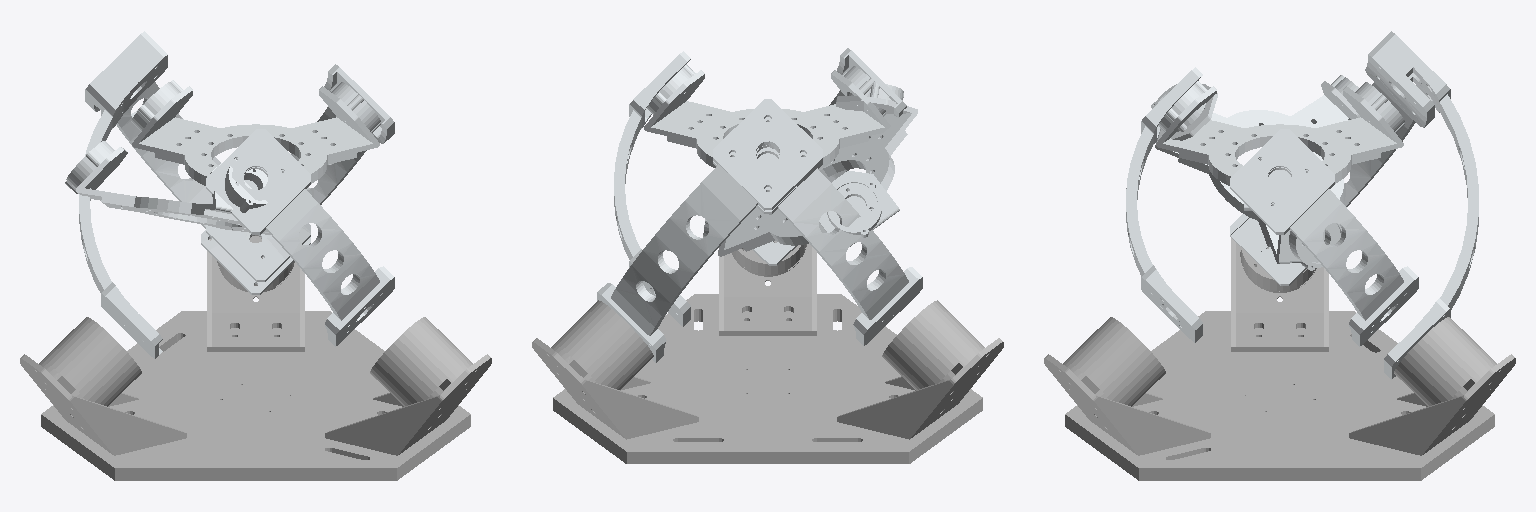
URDF robot description (Spherical_Parallel4.0):
<?xml version="1.0" encoding="utf-8"?>
<!-- This URDF was automatically created by SolidWorks to URDF Exporter! Originally created by Stephen Brawner (brawner@gmail.com) 
     Commit Version: 1.6.0-4-g7f85cfe  Build Version: 1.6.7995.38578
     For more information, please see http://wiki.ros.org/sw_urdf_exporter -->
<robot
  name="Spherical_Parallel4.0">
  <link
    name="S1_base_link">
    <inertial>
      <origin
        xyz="4.83843121954725E-06 -8.38041007873146E-06 0.00921106157110024"
        rpy="0 0 0" />
      <mass
        value="0.383954508133489" />
      <inertia
        ixx="0.000279103390586857"
        ixy="-3.02891552499975E-06"
        ixz="1.56141543529582E-17"
        iyy="0.000282600880973714"
        iyz="1.42975321290463E-16"
        izz="0.000538960992417047" />
    </inertial>
    <visual>
      <origin
        xyz="0 0 0"
        rpy="0 0 0" />
      <geometry>
        <mesh
          filename="package://Spherical_Parallel4.0/meshes/S1_base_link.STL" />
      </geometry>
      <material
        name="">
        <color
          rgba="0.752941176470588 0.752941176470588 0.752941176470588 1" />
      </material>
    </visual>
    <collision>
      <origin
        xyz="0 0 0"
        rpy="0 0 0" />
      <geometry>
        <mesh
          filename="package://Spherical_Parallel4.0/meshes/S1_base_link.STL" />
      </geometry>
    </collision>
  </link>
  <link
    name="S1_leg1_proximal">
    <inertial>
      <origin
        xyz="0.039427 0.015615 0.048164"
        rpy="0 0 0" />
      <mass
        value="0.072371" />
      <inertia
        ixx="5.3484E-05"
        ixy="1.5673E-05"
        ixz="-2.6488E-05"
        iyy="7.7521E-05"
        iyz="-1.0469E-08"
        izz="6.804E-05" />
    </inertial>
    <visual>
      <origin
        xyz="0 0 0"
        rpy="0 0 0" />
      <geometry>
        <mesh
          filename="package://Spherical_Parallel4.0/meshes/S1_leg1_proximal.STL" />
      </geometry>
      <material
        name="">
        <color
          rgba="0.89804 0.91765 0.92941 1" />
      </material>
    </visual>
    <collision>
      <origin
        xyz="0 0 0"
        rpy="0 0 0" />
      <geometry>
        <mesh
          filename="package://Spherical_Parallel4.0/meshes/S1_leg1_proximal.STL" />
      </geometry>
    </collision>
  </link>
  <joint
    name="S1_base_proximal_Joint1"
    type="revolute">
    <origin
      xyz="-0.055307 -1.8224E-05 0.037207"
      rpy="-0.7854 -0.61548 -2.0944" />
    <parent
      link="S1_base_link" />
    <child
      link="S1_leg1_proximal" />
    <axis
      xyz="0 0 -1" />
    <limit
      lower="0"
      upper="0"
      effort="0"
      velocity="0" />
  </joint>
  <link
    name="S1_leg1_distal">
    <inertial>
      <origin
        xyz="0.0276162169494415 -2.2103393455819E-09 0.016604279242538"
        rpy="0 0 0" />
      <mass
        value="0.0249434660620519" />
      <inertia
        ixx="1.23287454032943E-05"
        ixy="-3.16358153214323E-13"
        ixz="-1.02513914563365E-05"
        iyy="2.31995059108402E-05"
        iyz="-1.03787602404874E-12"
        izz="1.41903412871279E-05" />
    </inertial>
    <visual>
      <origin
        xyz="0 0 0"
        rpy="0 0 0" />
      <geometry>
        <mesh
          filename="package://Spherical_Parallel4.0/meshes/S1_leg1_distal.STL" />
      </geometry>
      <material
        name="">
        <color
          rgba="0.898039215686275 0.917647058823529 0.929411764705882 1" />
      </material>
    </visual>
    <collision>
      <origin
        xyz="0 0 0"
        rpy="0 0 0" />
      <geometry>
        <mesh
          filename="package://Spherical_Parallel4.0/meshes/S1_leg1_distal.STL" />
      </geometry>
    </collision>
  </link>
  <joint
    name="S1_intermediate_distal_Joint1"
    type="revolute">
    <origin
      xyz="0 0.0515000000000001 0.06775"
      rpy="1.5707963267949 0 0" />
    <parent
      link="S1_leg1_proximal" />
    <child
      link="S1_leg1_distal" />
    <axis
      xyz="0 0 1" />
    <limit
      lower="0"
      upper="0"
      effort="0"
      velocity="0" />
  </joint>
  <link
    name="S1_leg1_platform">
    <inertial>
      <origin
        xyz="-0.01307727722899 0.01307727722899 -0.0424227227710103"
        rpy="0 0 0" />
      <mass
        value="0.0449010465380491" />
      <inertia
        ixx="8.16628762450826E-06"
        ixy="-1.65084933290386E-06"
        ixz="-1.65084933290384E-06"
        iyy="8.16628762450828E-06"
        iyz="1.65084933290385E-06"
        izz="8.16628762450823E-06" />
    </inertial>
    <visual>
      <origin
        xyz="0 0 0"
        rpy="0 0 0" />
      <geometry>
        <mesh
          filename="package://Spherical_Parallel4.0/meshes/S1_leg1_platform.STL" />
      </geometry>
      <material
        name="">
        <color
          rgba="0.898039215686275 0.917647058823529 0.929411764705882 1" />
      </material>
    </visual>
    <collision>
      <origin
        xyz="0 0 0"
        rpy="0 0 0" />
      <geometry>
        <mesh
          filename="package://Spherical_Parallel4.0/meshes/S1_leg1_platform.STL" />
      </geometry>
    </collision>
  </link>
  <joint
    name="S1_distal_platform_Joint1"
    type="revolute">
    <origin
      xyz="0.0555 0 0.0515000000000002"
      rpy="3.14159265358979 1.57079631189374 -2.5042761448487" />
    <parent
      link="S1_leg1_distal" />
    <child
      link="S1_leg1_platform" />
    <axis
      xyz="0 0 -1" />
    <limit
      lower="0"
      upper="0"
      effort="0"
      velocity="0" />
  </joint>
  <link
    name="S1_leg2_proximal">
    <inertial>
      <origin
        xyz="0.039427 0.015615 0.048164"
        rpy="0 0 0" />
      <mass
        value="0.072371" />
      <inertia
        ixx="5.3484E-05"
        ixy="1.5673E-05"
        ixz="-2.6488E-05"
        iyy="7.7521E-05"
        iyz="-1.046E-08"
        izz="6.804E-05" />
    </inertial>
    <visual>
      <origin
        xyz="0 0 0"
        rpy="0 0 0" />
      <geometry>
        <mesh
          filename="package://Spherical_Parallel4.0/meshes/S1_leg2_proximal.STL" />
      </geometry>
      <material
        name="">
        <color
          rgba="0.89804 0.91765 0.92941 1" />
      </material>
    </visual>
    <collision>
      <origin
        xyz="0 0 0"
        rpy="0 0 0" />
      <geometry>
        <mesh
          filename="package://Spherical_Parallel4.0/meshes/S1_leg2_proximal.STL" />
      </geometry>
    </collision>
  </link>
  <joint
    name="S1_base_proximal_Joint2"
    type="revolute">
    <origin
      xyz="0.027669 -0.047925 0.037207"
      rpy="-0.7854 -0.61548 0" />
    <parent
      link="S1_base_link" />
    <child
      link="S1_leg2_proximal" />
    <axis
      xyz="0 0 -1" />
    <limit
      lower="0"
      upper="0"
      effort="0"
      velocity="0" />
  </joint>
  <link
    name="S1_leg2_distal">
    <inertial>
      <origin
        xyz="0.0276162724495207 -2.56363466566434E-09 0.0166042770917791"
        rpy="0 0 0" />
      <mass
        value="0.0249434008867253" />
      <inertia
        ixx="1.23287424080632E-05"
        ixy="1.00356953107288E-12"
        ixz="-1.02513872579272E-05"
        iyy="2.31995048527672E-05"
        iyz="-1.19413554633169E-12"
        izz="1.4190346123321E-05" />
    </inertial>
    <visual>
      <origin
        xyz="0 0 0"
        rpy="0 0 0" />
      <geometry>
        <mesh
          filename="package://Spherical_Parallel4.0/meshes/S1_leg2_distal.STL" />
      </geometry>
      <material
        name="">
        <color
          rgba="0.898039215686275 0.917647058823529 0.929411764705882 1" />
      </material>
    </visual>
    <collision>
      <origin
        xyz="0 0 0"
        rpy="0 0 0" />
      <geometry>
        <mesh
          filename="package://Spherical_Parallel4.0/meshes/S1_leg2_distal.STL" />
      </geometry>
    </collision>
  </link>
  <joint
    name="S1_intermediate_distal_Joint2"
    type="revolute">
    <origin
      xyz="0 0.0515 0.06775"
      rpy="1.5707963267949 0 0" />
    <parent
      link="S1_leg2_proximal" />
    <child
      link="S1_leg2_distal" />
    <axis
      xyz="0 0 1" />
    <limit
      lower="0"
      upper="0"
      effort="0"
      velocity="0" />
  </joint>
  <link
    name="S1_leg2_platform">
    <inertial>
      <origin
        xyz="-0.0130772772289897 -0.0130772772289903 0.0424227227710099"
        rpy="0 0 0" />
      <mass
        value="0.0449010465380491" />
      <inertia
        ixx="8.16628762450827E-06"
        ixy="1.65084933290386E-06"
        ixz="1.65084933290385E-06"
        iyy="8.16628762450826E-06"
        iyz="1.65084933290384E-06"
        izz="8.16628762450825E-06" />
    </inertial>
    <visual>
      <origin
        xyz="0 0 0"
        rpy="0 0 0" />
      <geometry>
        <mesh
          filename="package://Spherical_Parallel4.0/meshes/S1_leg2_platform.STL" />
      </geometry>
      <material
        name="">
        <color
          rgba="0.898039215686275 0.917647058823529 0.929411764705882 1" />
      </material>
    </visual>
    <collision>
      <origin
        xyz="0 0 0"
        rpy="0 0 0" />
      <geometry>
        <mesh
          filename="package://Spherical_Parallel4.0/meshes/S1_leg2_platform.STL" />
      </geometry>
    </collision>
  </link>
  <joint
    name="S1_distal_platform_Joint2"
    type="revolute">
    <origin
      xyz="0.0555 0 0.0515000000000002"
      rpy="3.14159263251637 1.5707963267949 0" />
    <parent
      link="S1_leg2_distal" />
    <child
      link="S1_leg2_platform" />
    <axis
      xyz="0 0 1" />
    <limit
      lower="0"
      upper="0"
      effort="0"
      velocity="0" />
  </joint>
  <link
    name="S1_leg3_proximal">
    <inertial>
      <origin
        xyz="0.039427 0.015615 0.048164"
        rpy="0 0 0" />
      <mass
        value="0.072371" />
      <inertia
        ixx="5.3484E-05"
        ixy="1.5673E-05"
        ixz="-2.6488E-05"
        iyy="7.7521E-05"
        iyz="-1.0467E-08"
        izz="6.804E-05" />
    </inertial>
    <visual>
      <origin
        xyz="0 0 0"
        rpy="0 0 0" />
      <geometry>
        <mesh
          filename="package://Spherical_Parallel4.0/meshes/S1_leg3_proximal.STL" />
      </geometry>
      <material
        name="">
        <color
          rgba="0.89804 0.91765 0.92941 1" />
      </material>
    </visual>
    <collision>
      <origin
        xyz="0 0 0"
        rpy="0 0 0" />
      <geometry>
        <mesh
          filename="package://Spherical_Parallel4.0/meshes/S1_leg3_proximal.STL" />
      </geometry>
    </collision>
  </link>
  <joint
    name="S1_base_proximal_Joint3"
    type="revolute">
    <origin
      xyz="0.027669 0.047888 0.037207"
      rpy="-0.7854 -0.61548 2.0944" />
    <parent
      link="S1_base_link" />
    <child
      link="S1_leg3_proximal" />
    <axis
      xyz="0 0 -1" />
    <limit
      lower="0"
      upper="0"
      effort="0"
      velocity="0" />
  </joint>
  <link
    name="S1_leg3_distal">
    <inertial>
      <origin
        xyz="0.0276162699864967 -5.75903416448476E-09 0.0166042723305424"
        rpy="0 0 0" />
      <mass
        value="0.0249434138951247" />
      <inertia
        ixx="1.2328741879394E-05"
        ixy="-1.74451381862974E-12"
        ixz="-1.02513859626617E-05"
        iyy="2.31995018577349E-05"
        iyz="-1.15965214906432E-12"
        izz="1.41903422898734E-05" />
    </inertial>
    <visual>
      <origin
        xyz="0 0 0"
        rpy="0 0 0" />
      <geometry>
        <mesh
          filename="package://Spherical_Parallel4.0/meshes/S1_leg3_distal.STL" />
      </geometry>
      <material
        name="">
        <color
          rgba="0.898039215686275 0.917647058823529 0.929411764705882 1" />
      </material>
    </visual>
    <collision>
      <origin
        xyz="0 0 0"
        rpy="0 0 0" />
      <geometry>
        <mesh
          filename="package://Spherical_Parallel4.0/meshes/S1_leg3_distal.STL" />
      </geometry>
    </collision>
  </link>
  <joint
    name="S1_intermediate_distal_Joint3"
    type="revolute">
    <origin
      xyz="0 0.0514999999999999 0.0677500000000001"
      rpy="1.5707963267949 0 0" />
    <parent
      link="S1_leg3_proximal" />
    <child
      link="S1_leg3_distal" />
    <axis
      xyz="0 0 1" />
    <limit
      lower="0"
      upper="0"
      effort="0"
      velocity="0" />
  </joint>
  <link
    name="S1_leg3_platform">
    <inertial>
      <origin
        xyz="-0.0130772772289899 -0.0130772772289899 0.0424227227710099"
        rpy="0 0 0" />
      <mass
        value="0.0449010465380491" />
      <inertia
        ixx="8.16628762450827E-06"
        ixy="1.65084933290385E-06"
        ixz="1.65084933290384E-06"
        iyy="8.16628762450826E-06"
        iyz="1.65084933290385E-06"
        izz="8.16628762450824E-06" />
    </inertial>
    <visual>
      <origin
        xyz="0 0 0"
        rpy="0 0 0" />
      <geometry>
        <mesh
          filename="package://Spherical_Parallel4.0/meshes/S1_leg3_platform.STL" />
      </geometry>
      <material
        name="">
        <color
          rgba="0.898039215686275 0.917647058823529 0.929411764705882 1" />
      </material>
    </visual>
    <collision>
      <origin
        xyz="0 0 0"
        rpy="0 0 0" />
      <geometry>
        <mesh
          filename="package://Spherical_Parallel4.0/meshes/S1_leg3_platform.STL" />
      </geometry>
    </collision>
  </link>
  <joint
    name="S1_distal_platform_Joint3"
    type="revolute">
    <origin
      xyz="0.0555 0 0.0515000000000002"
      rpy="3.14159262778022 1.5707963267949 0" />
    <parent
      link="S1_leg3_distal" />
    <child
      link="S1_leg3_platform" />
    <axis
      xyz="0 0 1" />
    <limit
      lower="0"
      upper="0"
      effort="0"
      velocity="0" />
  </joint>
</robot>

--- What the picture shows (computed from the rendered views, not written in the file) ---
3 views of the same robot in one strip: view 1: azimuth 30°, elevation 25°; view 2: azimuth 150°, elevation 25°; view 3: azimuth 270°, elevation 25° (orthographic).
Model Spherical_Parallel4.0 with 10 links and 9 joints (9 revolute), rooted at S1_base_link, posed every joint at zero.
Links seen in each view (by area): view 1: S1_base_link, S1_leg1_distal, S1_leg3_proximal, S1_leg3_platform, S1_leg1_platform, S1_leg2_distal, S1_leg2_platform; view 2: S1_base_link, S1_leg3_proximal, S1_leg1_platform, S1_leg2_platform, S1_leg2_distal, S1_leg3_platform, S1_leg1_distal; view 3: S1_base_link, S1_leg2_distal, S1_leg3_proximal, S1_leg1_platform, S1_leg3_platform, S1_leg2_platform, S1_leg1_distal.
Boxes of the visible links, box(x1,y1,x2,y2) form: S1_base_link: box(20, 235, 491, 480); S1_leg1_distal: box(206, 129, 394, 346); S1_leg3_proximal: box(79, 31, 310, 358); S1_leg3_platform: box(131, 80, 380, 189); S1_leg1_platform: box(65, 141, 299, 234); S1_leg2_distal: box(206, 64, 394, 281); S1_leg2_platform: box(184, 82, 370, 185); S1_base_link: box(532, 241, 1003, 463); S1_leg3_proximal: box(597, 99, 922, 362); S1_leg1_platform: box(703, 81, 917, 256); S1_leg2_platform: box(644, 65, 890, 169); S1_leg2_distal: box(614, 51, 690, 326); S1_leg3_platform: box(651, 64, 842, 158); S1_leg1_distal: box(752, 48, 906, 265); S1_base_link: box(1044, 238, 1515, 480); S1_leg2_distal: box(1230, 129, 1418, 346); S1_leg3_proximal: box(1230, 31, 1478, 379); S1_leg1_platform: box(1151, 75, 1359, 270); S1_leg3_platform: box(1156, 82, 1396, 210); S1_leg2_platform: box(1163, 81, 1404, 205); S1_leg1_distal: box(1126, 67, 1202, 342).
Size in the robot's own frame: 0.1535 by 0.1695 by 0.1389 metres.
Meshes: 10 distinct files referenced, 7 mesh visuals loaded (7 binary STL); not drawn: 3 (reference not matched to a file when rendering).
